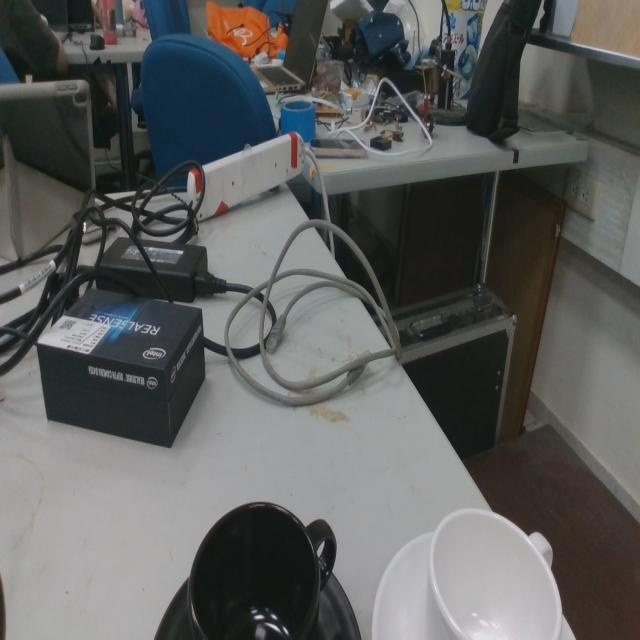black: (151, 498, 365, 640)
white: (370, 505, 578, 640)
